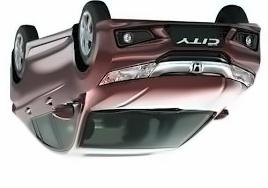Car hood: (85, 72, 247, 118)
Fender - -F-L-: (67, 19, 112, 101)
Front bumper: (92, 15, 263, 76)
Headlight - -L-: (95, 61, 159, 86)
Headlight - -R-: (227, 63, 256, 89)
Passenger-s door - -F-L-: (36, 20, 90, 157)
Passenger-s door - -R-L-: (17, 21, 63, 158)
Side bumper - -L-: (23, 21, 76, 71)
Side mirror - -L-: (6, 41, 33, 113), (50, 94, 82, 122)
